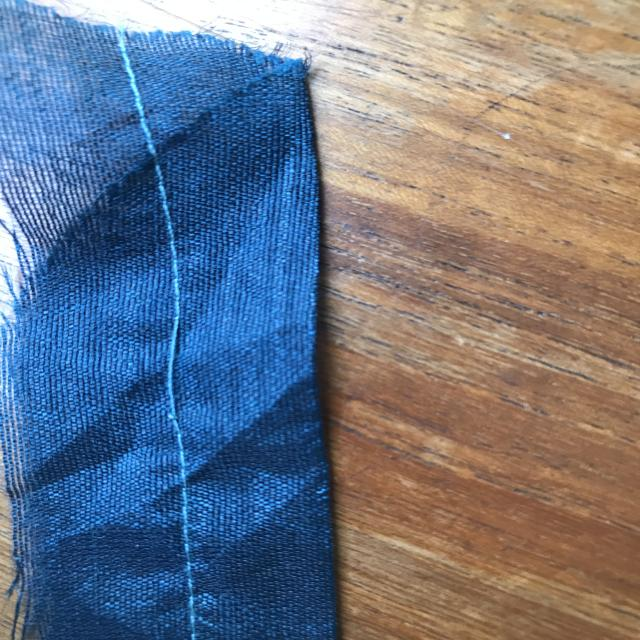skip: (144, 300, 217, 443)
